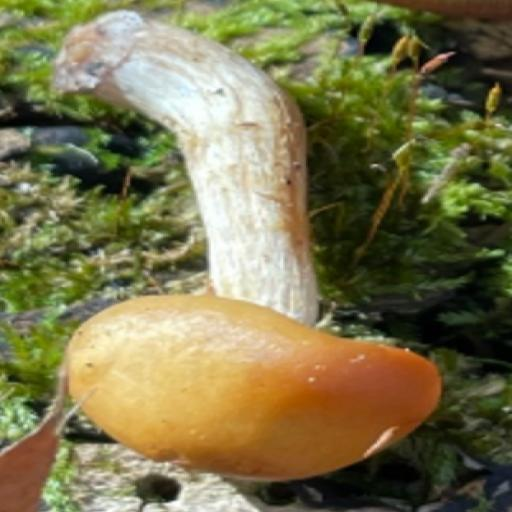mushroom: (51, 171, 459, 494)
